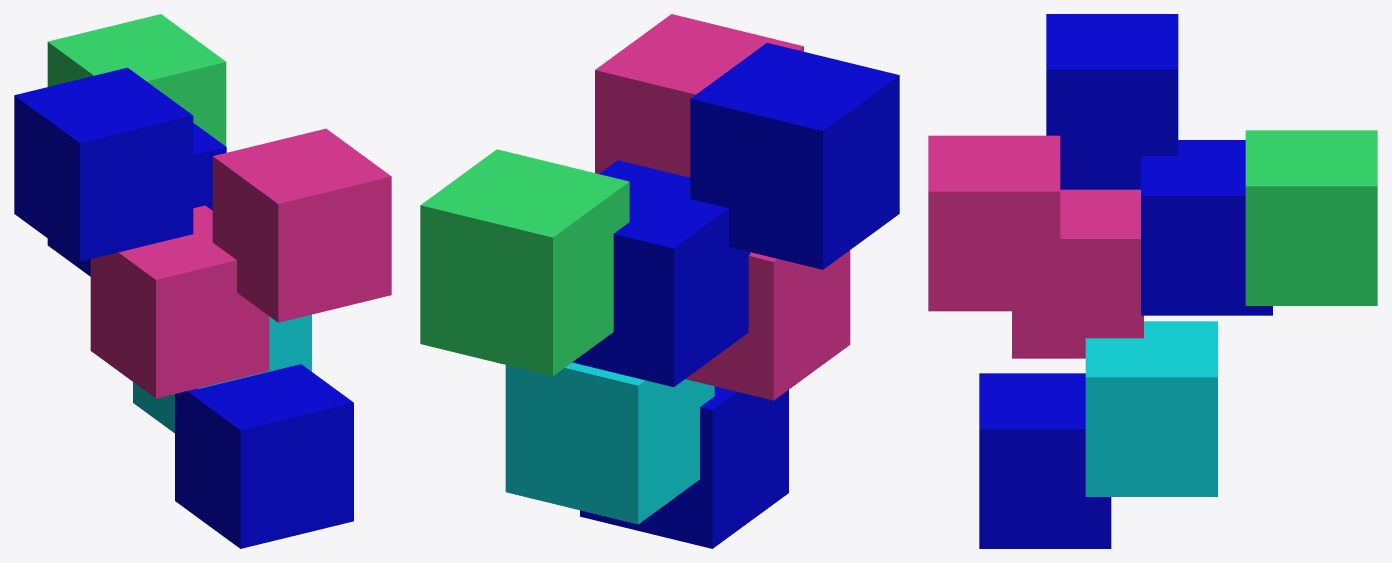
File: cubes.gltf
The picture shows the model from 3 angles, left to right: view 1: azimuth 30°, elevation 25°; view 2: azimuth 150°, elevation 25°; view 3: azimuth 270°, elevation 25°; orthographic projection. The views are drawn at different scales.
Visible parts, largest first — view 1: Cube.004, Cube.006, Cube, Cube.002, Cube.005, Cube.001, Cube.003; view 2: Cube.004, Cube.005, Cube.001, Cube.003, Cube.006, Cube, Cube.002; view 3: Cube.006, Cube.005, Cube.001, Cube.004, Cube, Cube.003, Cube.002.
Part boxes in pixels (bbox=[...]): Cube.004: bbox=[14, 67, 193, 261]; Cube.006: bbox=[212, 128, 391, 322]; Cube: bbox=[175, 364, 353, 548]; Cube.002: bbox=[90, 205, 269, 398]; Cube.005: bbox=[47, 14, 226, 146]; Cube.001: bbox=[133, 314, 311, 433]; Cube.003: bbox=[47, 123, 226, 276]; Cube.004: bbox=[690, 43, 899, 269]; Cube.005: bbox=[420, 149, 629, 376]; Cube.001: bbox=[505, 362, 714, 524]; Cube.003: bbox=[572, 160, 750, 387]; Cube.006: bbox=[595, 14, 803, 177]; Cube: bbox=[580, 386, 788, 548]; Cube.002: bbox=[685, 250, 850, 400]; Cube.006: bbox=[928, 135, 1060, 311]; Cube.005: bbox=[1245, 130, 1377, 305]; Cube.001: bbox=[1085, 321, 1217, 496]; Cube.004: bbox=[1046, 14, 1178, 189]; Cube: bbox=[979, 373, 1111, 548]; Cube.003: bbox=[1141, 140, 1272, 315]; Cube.002: bbox=[1012, 189, 1143, 358].
Size of the model in its own units: 4.47 by 6.96 by 6.8.
